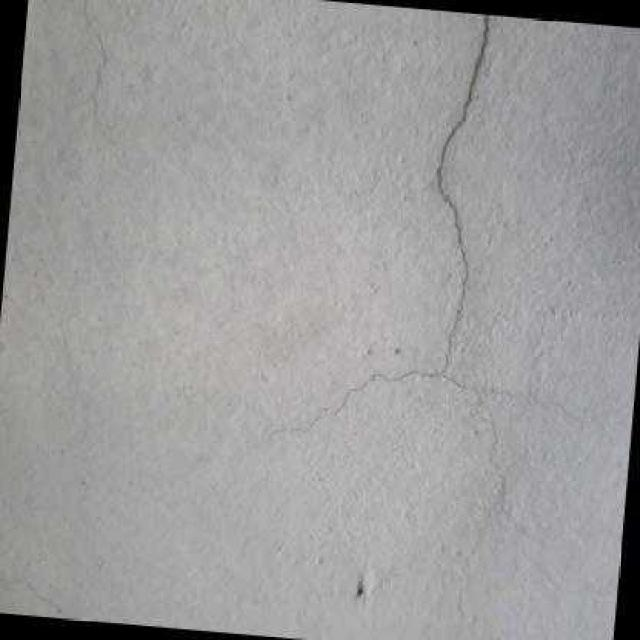D00: (340, 13, 538, 556)
